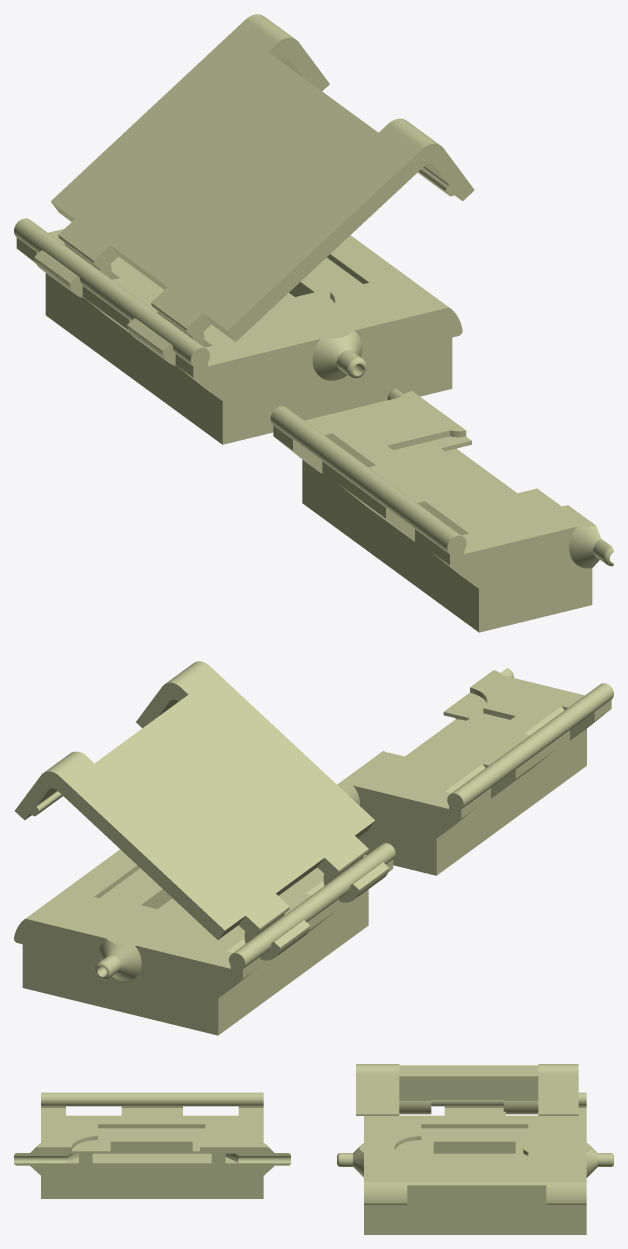
File: flush_1.glb
3 views of the same model, one above another, from view 1: azimuth 30°, elevation 25°; view 2: azimuth 150°, elevation 25°; view 3: azimuth 270°, elevation 25° (orthographic). The views are drawn at different scales.
Parts seen in each view (by area): view 1: Deckel, Spülkörper.001, Spülkörper; view 2: Deckel, Spülkörper.001, Spülkörper; view 3: Spülkörper.001, Spülkörper, Deckel.
Boxes of the visible parts, bbox=[...] form: Deckel: bbox=[34, 14, 474, 365]; Spülkörper.001: bbox=[14, 218, 462, 444]; Spülkörper: bbox=[270, 388, 613, 632]; Deckel: bbox=[15, 661, 389, 960]; Spülkörper.001: bbox=[14, 843, 395, 1035]; Spülkörper: bbox=[337, 668, 613, 875]; Spülkörper.001: bbox=[337, 1092, 613, 1234]; Spülkörper: bbox=[14, 1092, 290, 1198]; Deckel: bbox=[356, 1064, 578, 1115].
Bounding box in the file's own units: 75.23 × 63.93 × 216.
